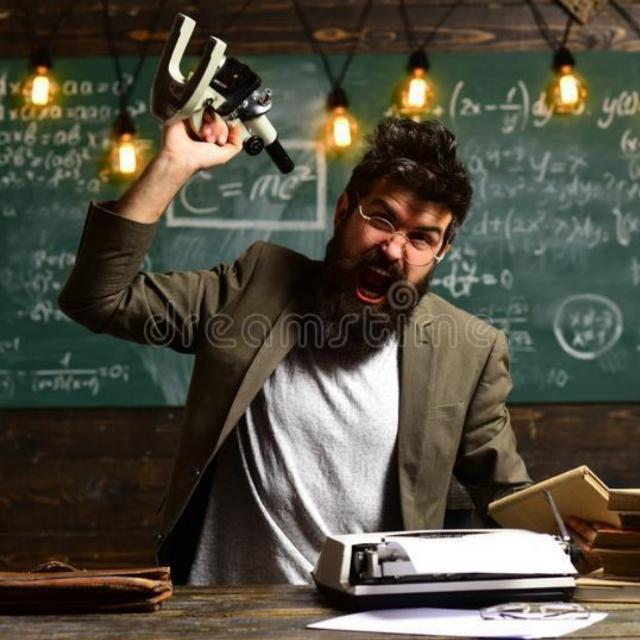Angry: (299, 110, 554, 452)
